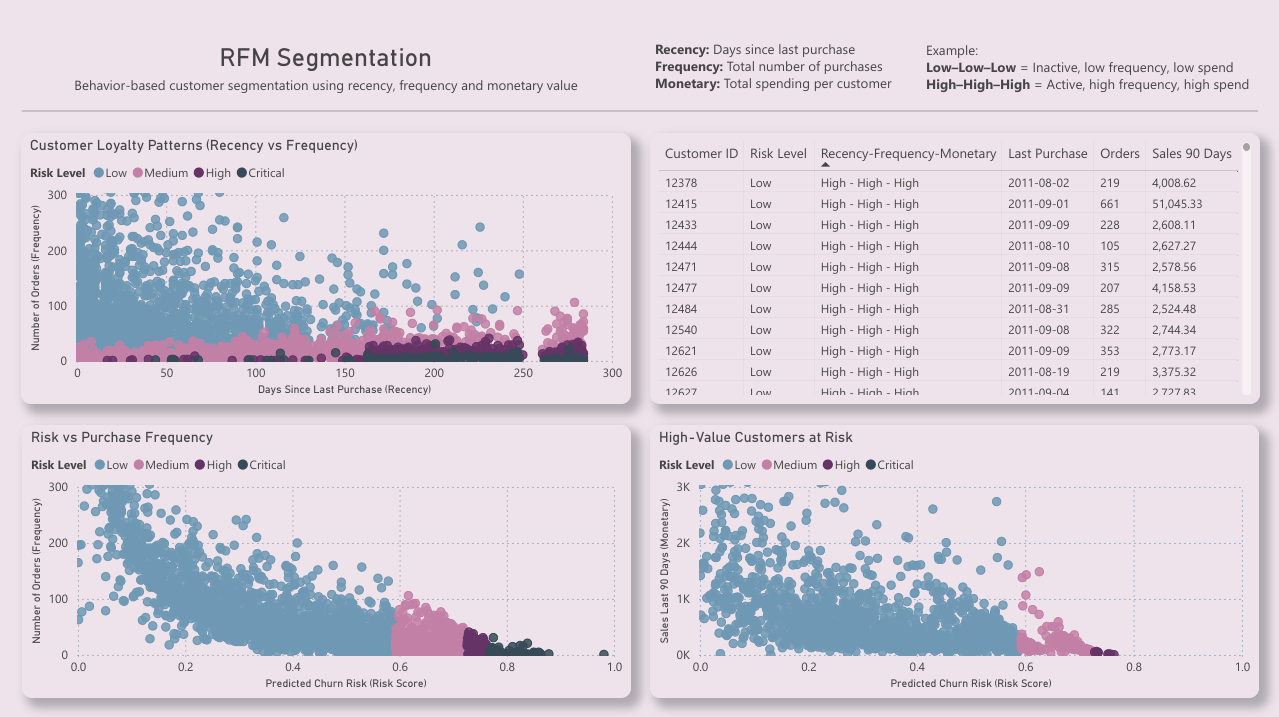

Layout of this report page (visuals, bound fields, positions):
{"tool":"powerbi","page":{"name":"Customer Insights","canvas":[1280,720],"ordinal":1},"visuals":[{"type":"scatterChart","title":"Risk vs Purchase Frequency","fields":{"X":["ChurnScores.RiskScore"],"Series":["RiskbandSummary.RiskBand"],"Y":["ChurnScores.FrequencyLifetime"]},"box":[21.5,426.3,609.7,272.6],"z":0},{"type":"tableEx","title":"High-Risk Churn Candidates","fields":{"Values":["ChurnScores.CustomerID","RiskbandSummary.RiskBand","ChurnScores.RFM_Profile","ChurnScores.LastPurchase","ChurnScores.FrequencyLifetime","ChurnScores.MonetaryRecent_Display"]},"box":[650,133.8,610,271.2],"z":1000},{"type":"scatterChart","title":"High-Value Customers at Risk","fields":{"X":["ChurnScores.RiskScore"],"Y":["ChurnScores.MonetaryRecent_Clean"],"Series":["RiskbandSummary.RiskBand"]},"box":[649.7,426.3,609.7,272.6],"z":2000},{"type":"scatterChart","title":"Customer Loyalty Patterns (Recency vs Frequency)","fields":{"X":["ChurnScores.Recency"],"Y":["ChurnScores.FrequencyLifetime"],"Series":["RiskbandSummary.RiskBand"]},"box":[21.2,133.8,610,271.2],"z":3000},{"type":"textbox","box":[650,35.7,271.4,70],"z":4000},{"type":"textbox","box":[921.4,37.1,337.1,68.6],"z":5000},{"type":"textbox","title":"RFM Segmentation","box":[21.4,42.9,610,55.7],"z":6000},{"type":"shape","box":[21.5,105.5,1236.8,12.3],"z":7000}]}

Visuals, with their boxes in screenshot pixels (x1, y1, x2, y2), scaled from the page's 1280x720 canvas onto the 1279x717 screenshot:
"Risk vs Purchase Frequency" scatterChart: BBox(21, 425, 631, 696)
"High-Risk Churn Candidates" tableEx: BBox(649, 133, 1259, 403)
"High-Value Customers at Risk" scatterChart: BBox(649, 425, 1258, 696)
"Customer Loyalty Patterns (Recency vs Frequency)" scatterChart: BBox(21, 133, 631, 403)
textbox: BBox(649, 36, 921, 105)
textbox: BBox(921, 37, 1258, 105)
"RFM Segmentation" textbox: BBox(21, 43, 631, 98)
shape: BBox(21, 105, 1257, 117)
